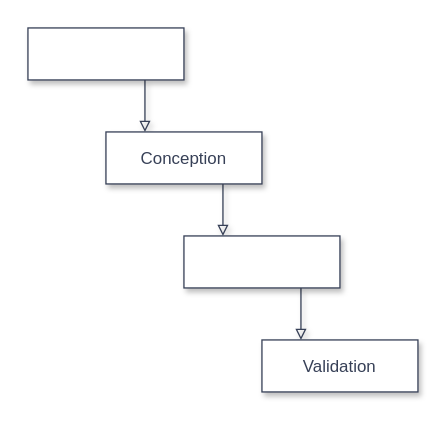
Image size: 448x424. Some labels were removed from this diagram. Here are the shapes that lost their labels. From the top down, the centre of each, then its label:
(x=106, y=55): Exigences
(x=262, y=263): Implémentation
